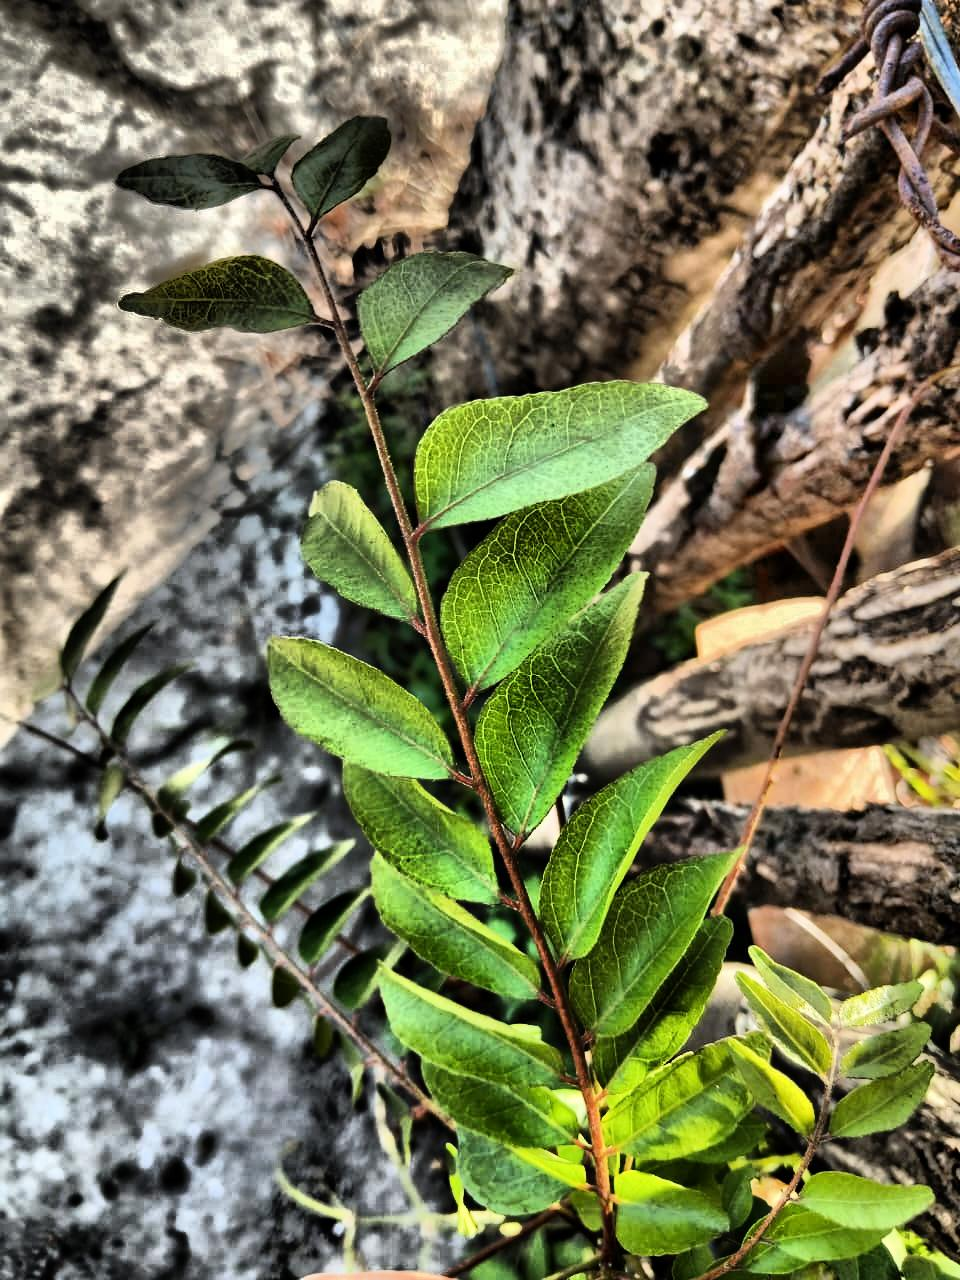daun kari: (75, 118, 931, 1279)
